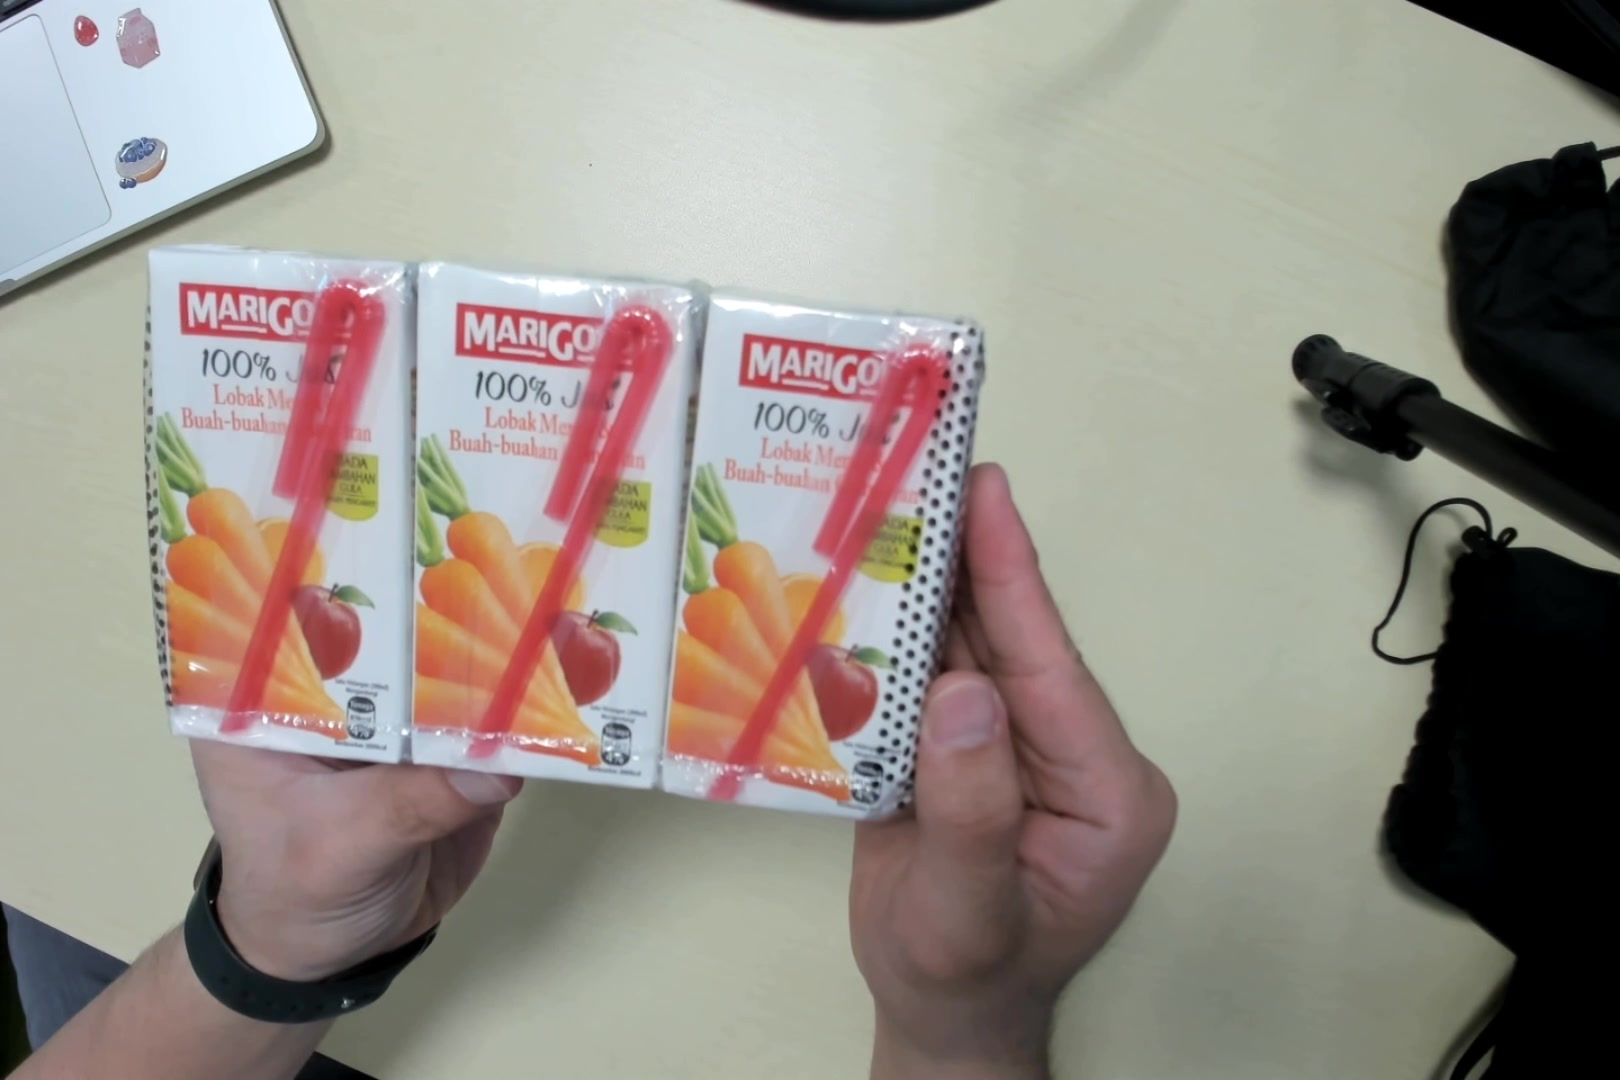FruitJuiceDrink_500-599g_Halal_NonHealthy: (137, 236, 972, 830)
